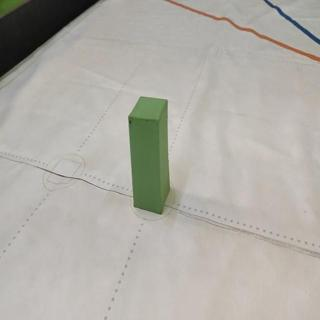greenbox: (127, 95, 172, 211)
